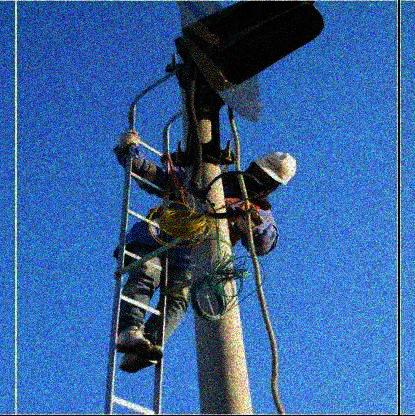helmet: (246, 151, 299, 195)
